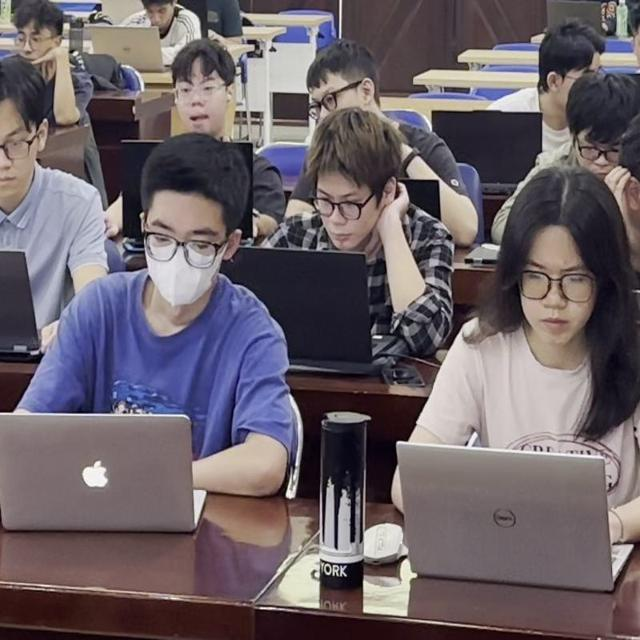Looking away: (494, 170, 612, 338), (140, 143, 246, 299), (308, 110, 402, 253), (0, 62, 54, 202), (564, 78, 640, 174), (167, 48, 237, 134), (5, 4, 63, 59), (132, 2, 184, 30)
